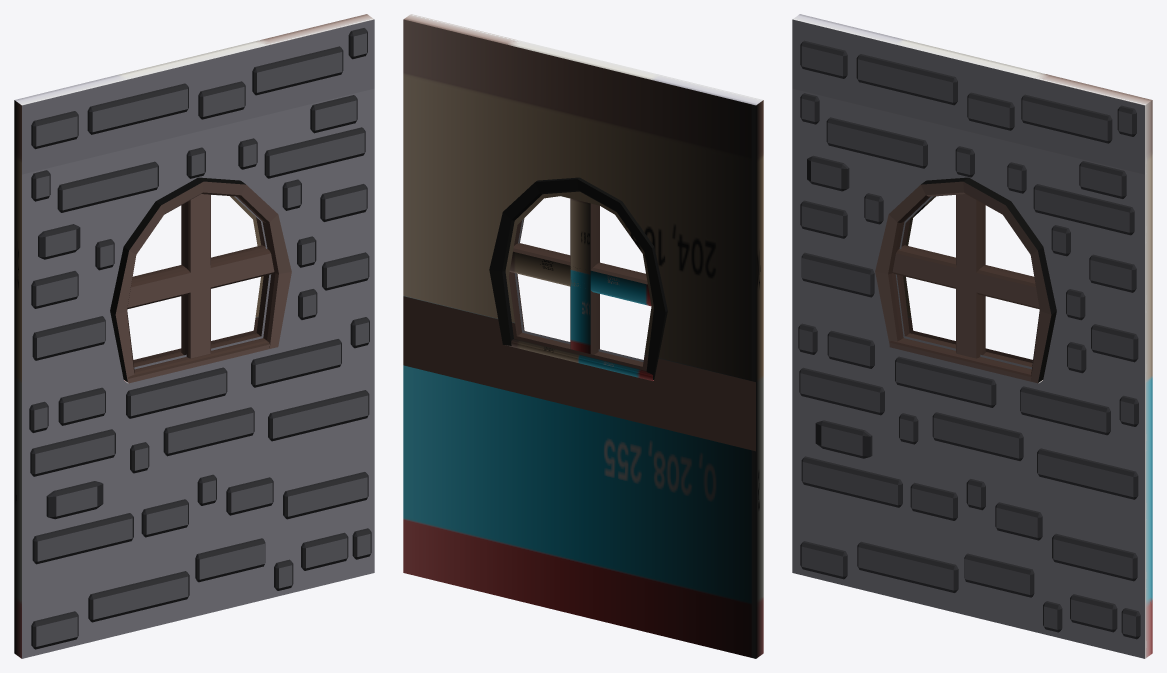
File: ParedeJanela.fbx
The picture shows the model from 3 angles, left to right: view 1: azimuth 30°, elevation 25°; view 2: azimuth 150°, elevation 25°; view 3: azimuth 330°, elevation 25°; orthographic projection.
Visible parts, largest first — view 1: ParedePedraComJanela_LoPo; view 2: ParedePedraComJanela_LoPo; view 3: ParedePedraComJanela_LoPo.
Boxes of the visible parts, x1,y1,x2,y2 form: ParedePedraComJanela_LoPo: (14,14,374,658); ParedePedraComJanela_LoPo: (403,14,763,658); ParedePedraComJanela_LoPo: (792,14,1152,658).
Bounding box in the file's own units: 200 × 300 × 15.
